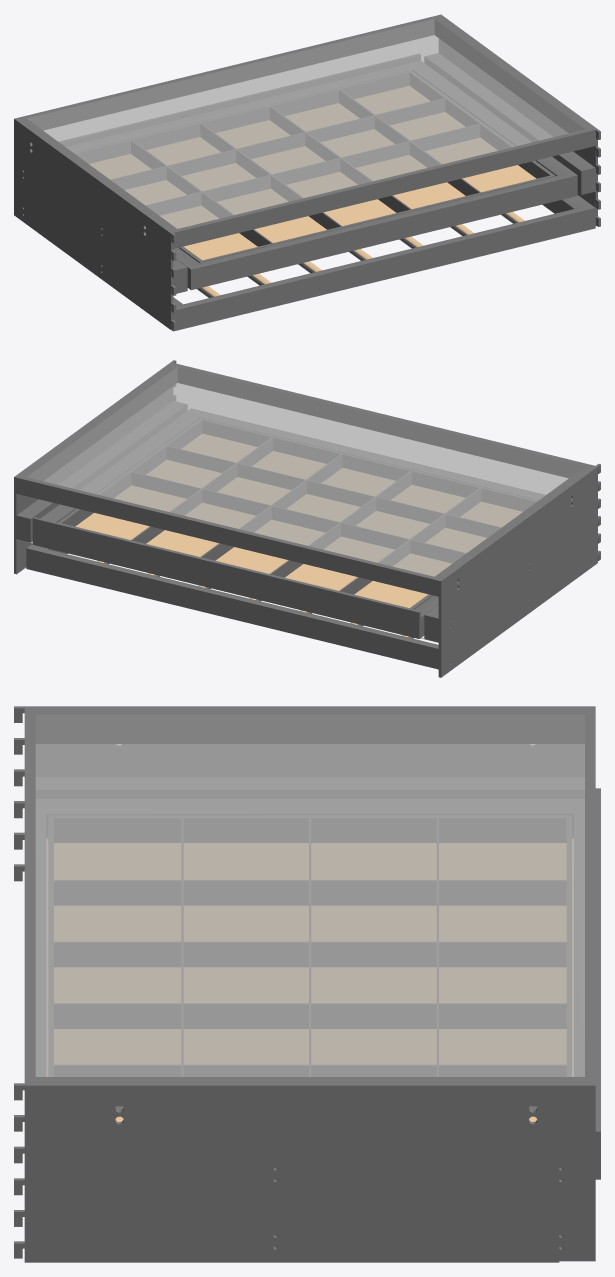
3 renders of one model, top to bottom at view 1: azimuth 30°, elevation 25°; view 2: azimuth 150°, elevation 25°; view 3: azimuth 270°, elevation 25°, orthographic. The views are drawn at different scales.
Parts seen in each view (by area): view 1: Geom3D (×5); view 2: Geom3D (×4); view 3: Geom3D (×4).
Part boxes in pixels (<box>): Geom3D (×5): <box>14,14,600,331</box>; Geom3D (×4): <box>14,360,600,677</box>; Geom3D (×4): <box>14,706,600,1262</box>.
Bounding box in the file's own units: 0.8333 × 0.1838 × 0.545.
